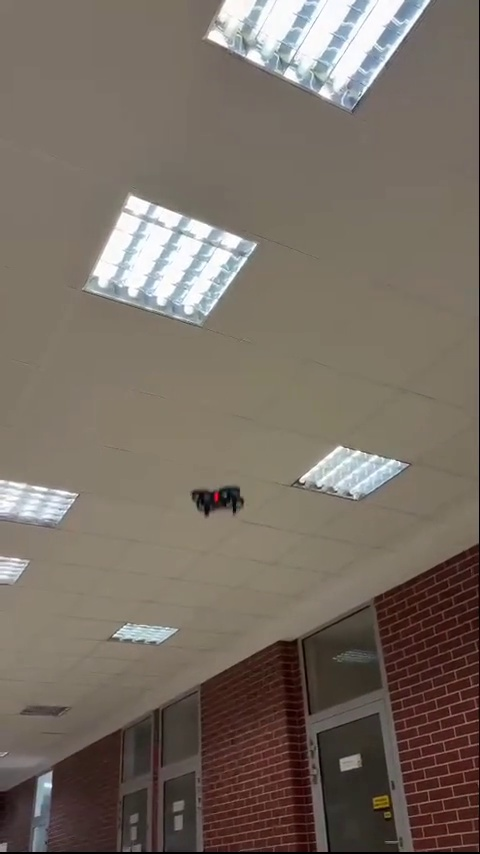drone: (188, 482, 248, 520)
